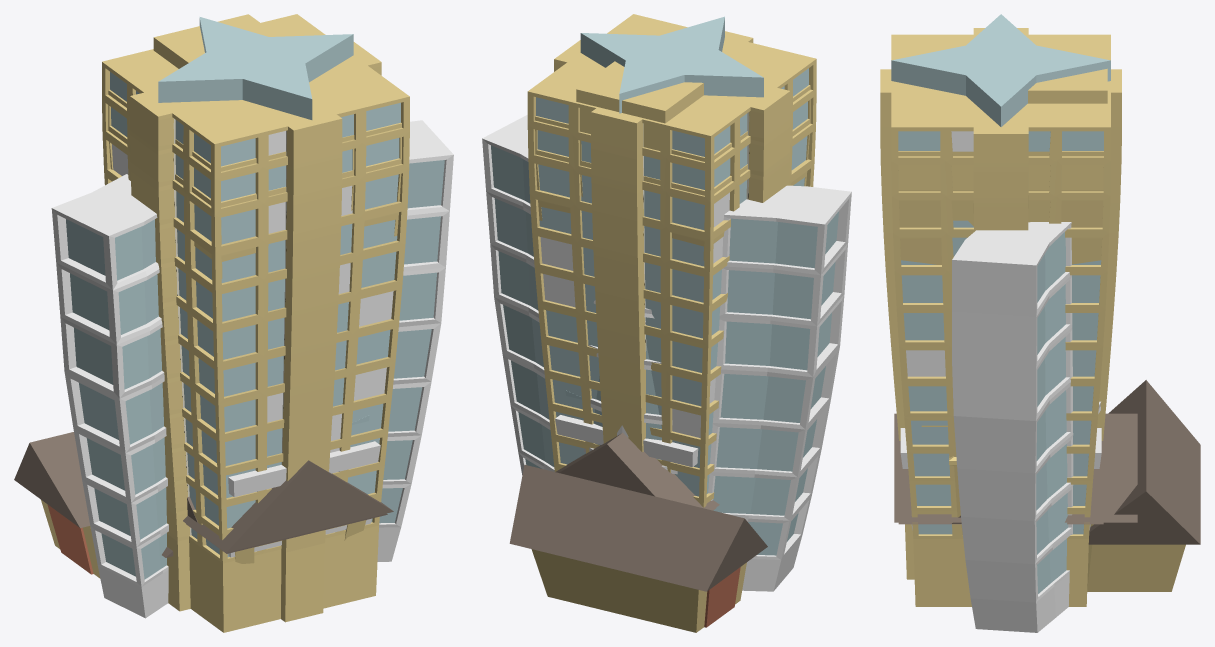
Rendered from Cenarios.fbx_Estruturas.fbx.
3 renders of one model, left to right at view 1: azimuth 30°, elevation 25°; view 2: azimuth 150°, elevation 25°; view 3: azimuth 270°, elevation 25°, orthographic. The views are drawn at different scales.
Parts seen in each view (by area): view 1: Predio 4, Predio 3, Casa 4, Predio 1, Casa 2, Casa 1; view 2: Predio 4, Predio 3, Casa 4, Predio 1, Casa 2; view 3: Predio 4, Predio 3, Casa 4, Predio 1, Casa 2.
Boxes of the visible parts, left/top/right/bottom form: Predio 4: left=102, top=14, right=409, bottom=632; Predio 3: left=51, top=120, right=453, bottom=618; Casa 4: left=14, top=432, right=393, bottom=578; Predio 1: left=108, top=14, right=401, bottom=278; Casa 2: left=228, top=415, right=380, bottom=557; Casa 1: left=162, top=513, right=387, bottom=563; Predio 4: left=527, top=14, right=816, bottom=507; Predio 3: left=482, top=115, right=851, bottom=591; Casa 4: left=509, top=432, right=767, bottom=632; Predio 1: left=535, top=61, right=810, bottom=260; Casa 2: left=555, top=390, right=698, bottom=467; Predio 4: left=880, top=14, right=1121, bottom=606; Predio 3: left=952, top=222, right=1100, bottom=632; Casa 4: left=894, top=380, right=1200, bottom=591; Predio 1: left=898, top=45, right=1107, bottom=264; Casa 2: left=900, top=428, right=1101, bottom=530.
Bounding box in the file's own units: 970 × 1320 × 751.
